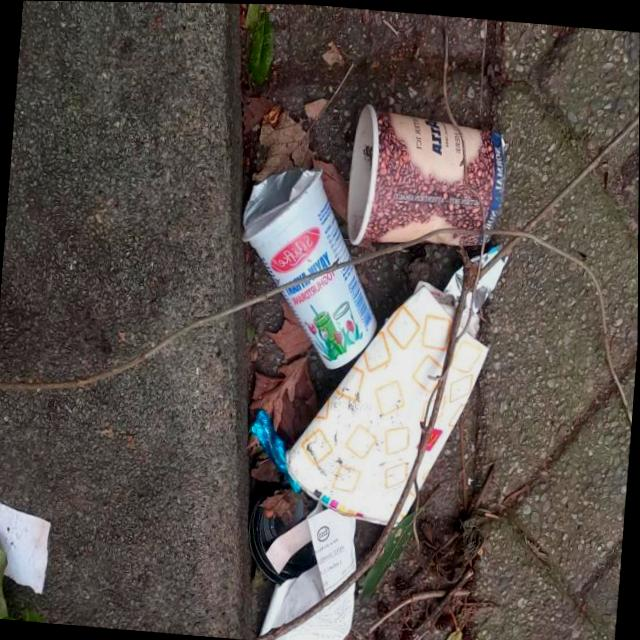Cup: (277, 272, 494, 533), (342, 98, 510, 256)
Paper: (230, 158, 389, 371), (256, 493, 361, 640), (0, 497, 52, 597)
Plastic: (244, 404, 306, 493)
